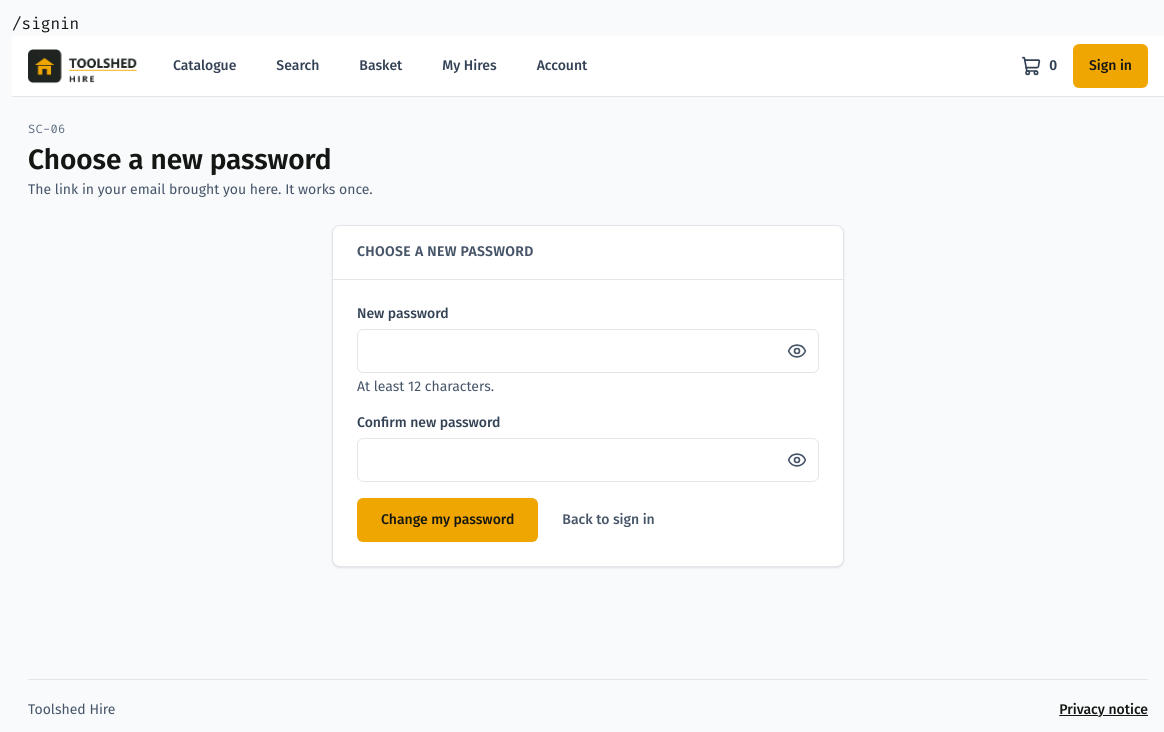
Test: choosing a new password from the link › holds back two passwords that differ, and says why beside the field
The width and height of the screenshot is (1164, 732).
Type "a-new-password" into the password field labelled "New password".
click(588, 351); type("a-new-password")  # box [357,329,819,373]
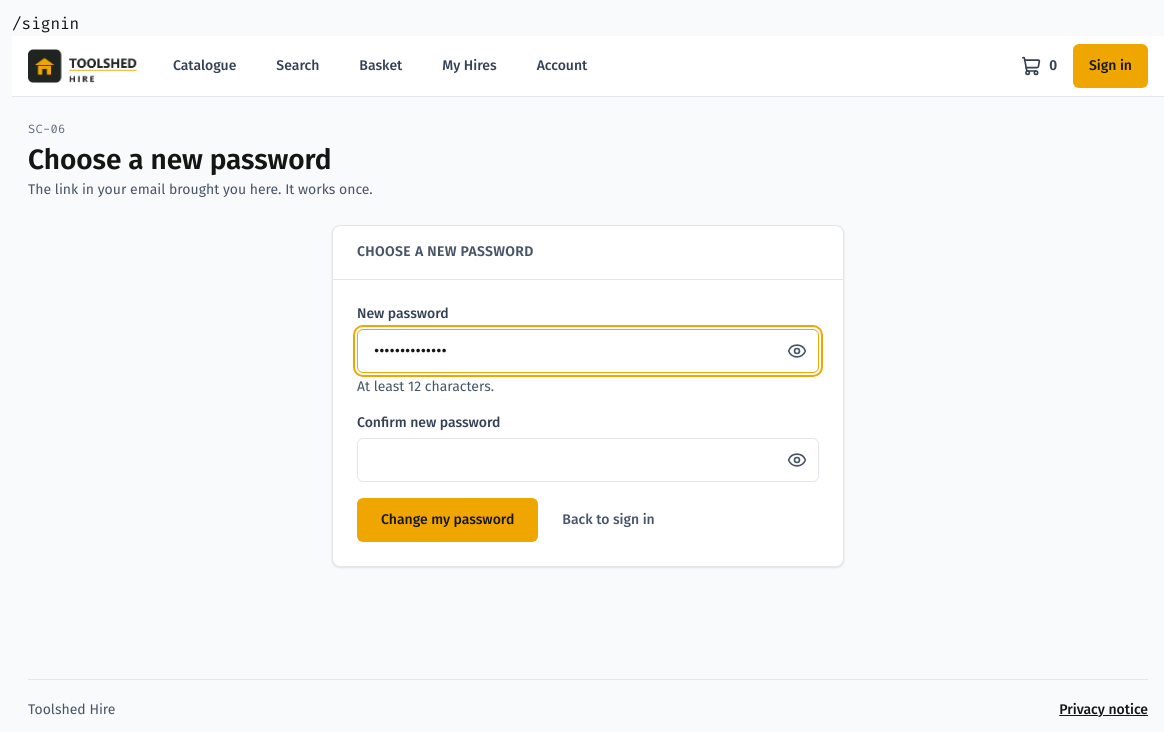
Type "a-new-passwerd" into the password field labelled "Confirm new password".
click(588, 460); type("a-new-passwerd")  # box [357,438,819,482]
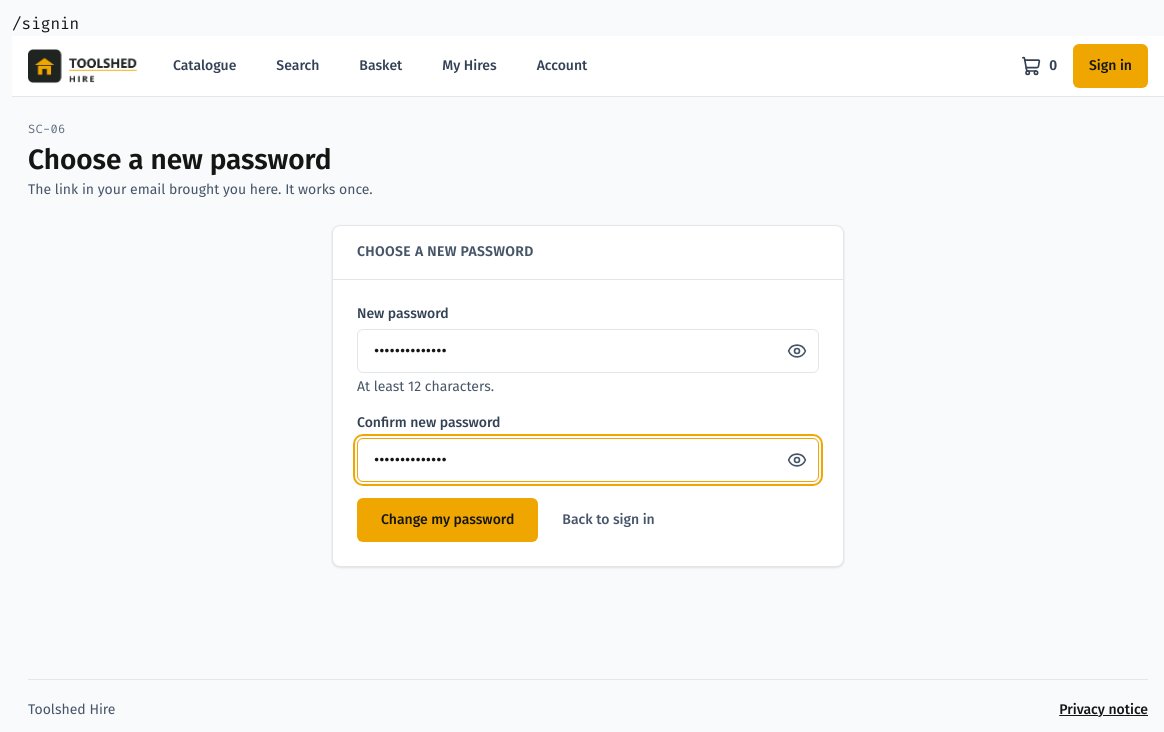
Click the button "Change my password".
click(448, 520)  # box [357,498,538,542]
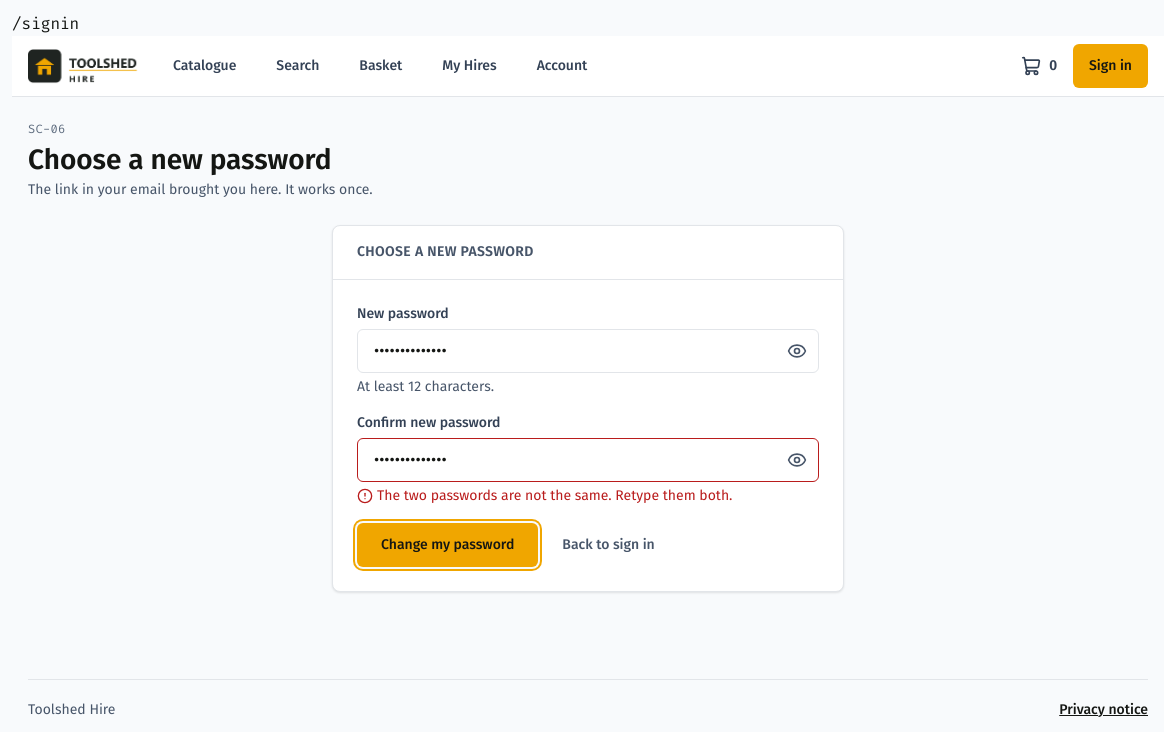
Expected: the text "The two passwords are not the same. Retype them both." is shown, [377,486,732,507]
